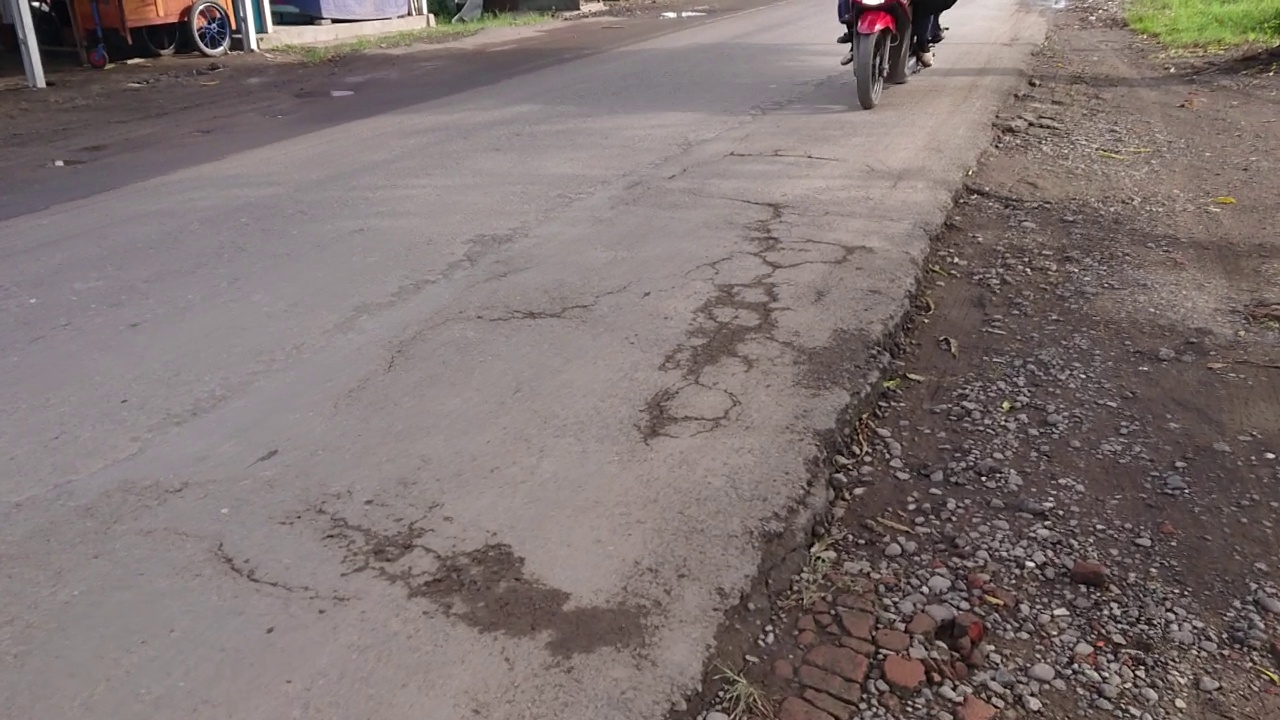Retak: (360, 520, 681, 687), (649, 205, 849, 426)
